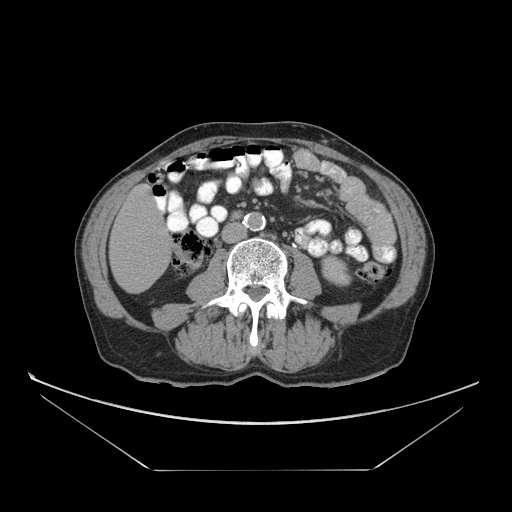right_kidney: (319, 249, 361, 293)
